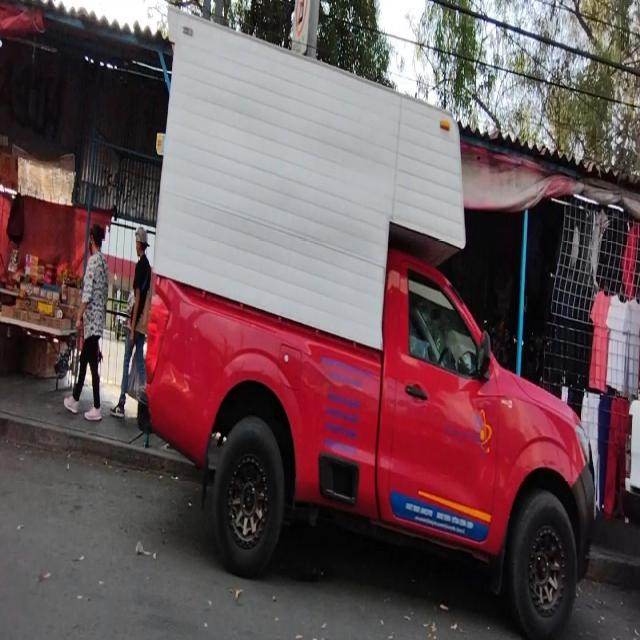adult: (63, 225, 104, 423), (113, 223, 151, 421)
